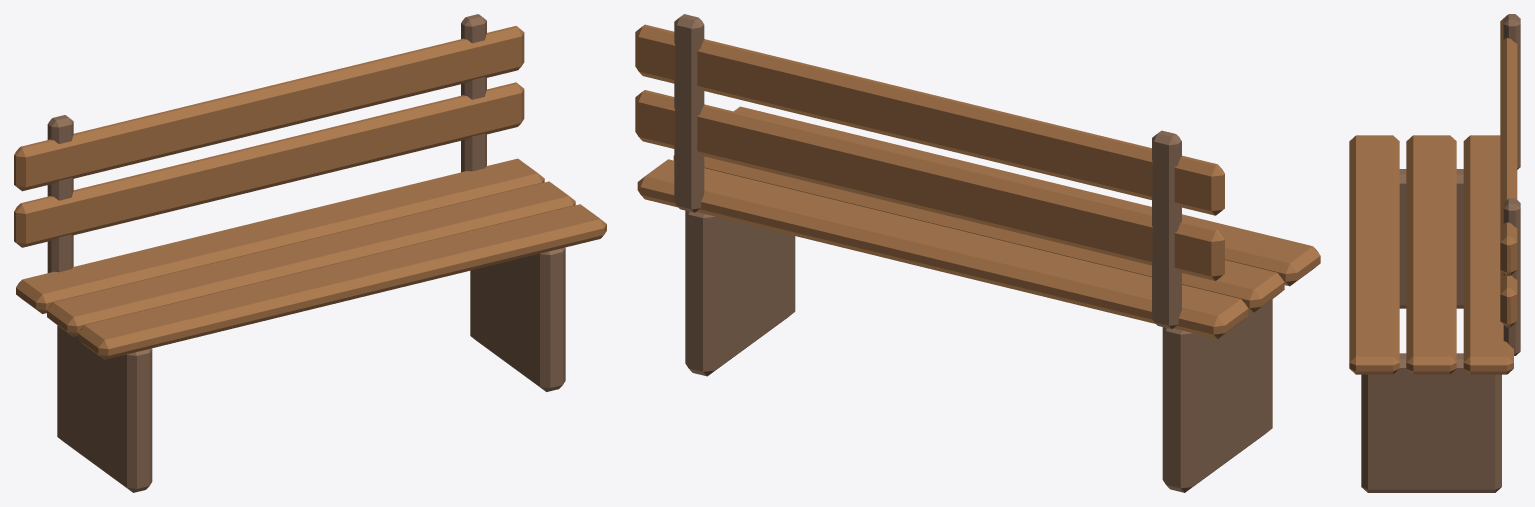
Rendered from ghe.glb.
3 renders of one model, left to right at view 1: azimuth 30°, elevation 25°; view 2: azimuth 150°, elevation 25°; view 3: azimuth 270°, elevation 25°, orthographic. The views are drawn at different scales.
Visible parts, largest first — view 1: ghe-3, ghe-4, ghe-2, ghe-1, ghe-0, ghe-5, ghe-7, ghe-6, ghe-8; view 2: ghe-3, ghe-4, ghe-0, ghe-5, ghe-7, ghe-1, ghe-2, ghe-8, ghe-6; view 3: ghe-7, ghe-2, ghe-1, ghe-0, ghe-4, ghe-5, ghe-8, ghe-6, ghe-3.
Part boxes in pixels (bbox=[...]): ghe-3: bbox=[14, 82, 524, 247]; ghe-4: bbox=[14, 26, 524, 191]; ghe-2: bbox=[78, 204, 606, 359]; ghe-1: bbox=[47, 181, 575, 336]; ghe-0: bbox=[16, 158, 544, 313]; ghe-5: bbox=[57, 325, 152, 492]; ghe-7: bbox=[470, 247, 565, 391]; ghe-6: bbox=[47, 115, 73, 272]; ghe-8: bbox=[461, 14, 486, 172]; ghe-3: bbox=[635, 90, 1224, 280]; ghe-4: bbox=[635, 24, 1224, 215]; ghe-0: bbox=[637, 159, 1248, 338]; ghe-5: bbox=[1162, 299, 1272, 492]; ghe-7: bbox=[685, 210, 795, 376]; ghe-1: bbox=[673, 155, 1284, 312]; ghe-2: bbox=[734, 106, 1320, 286]; ghe-8: bbox=[674, 14, 704, 212]; ghe-6: bbox=[1152, 130, 1181, 329]; ghe-7: bbox=[1361, 353, 1501, 492]; ghe-2: bbox=[1349, 135, 1399, 374]; ghe-1: bbox=[1406, 135, 1456, 374]; ghe-0: bbox=[1463, 135, 1513, 374]; ghe-4: bbox=[1500, 15, 1517, 275]; ghe-5: bbox=[1399, 169, 1463, 308]; ghe-8: bbox=[1503, 198, 1520, 355]; ghe-6: bbox=[1503, 14, 1520, 169]; ghe-3: bbox=[1500, 270, 1517, 327].
Bounding box in the file's own units: 1.6 × 0.95 × 0.51.
